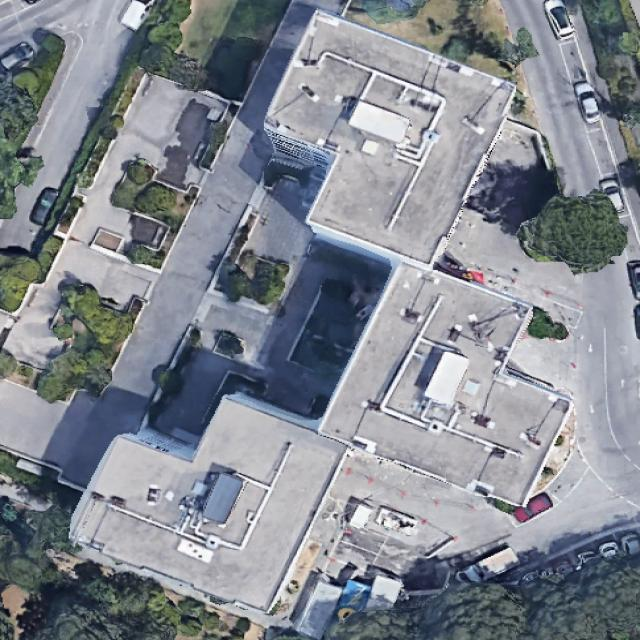immeuble: (312, 241, 604, 530), (233, 6, 518, 284), (63, 352, 348, 626)
